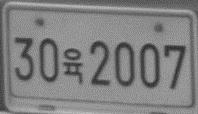0: (114, 41, 135, 87), (38, 37, 59, 82), (139, 43, 160, 87)
2: (89, 40, 111, 87)
3: (11, 36, 34, 82)
7: (163, 44, 186, 90)
육: (62, 47, 84, 86)
